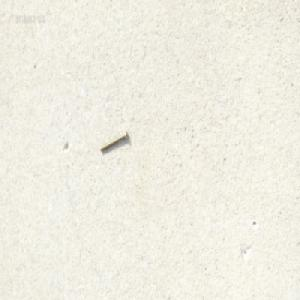Bolt: (99, 129, 128, 152)
